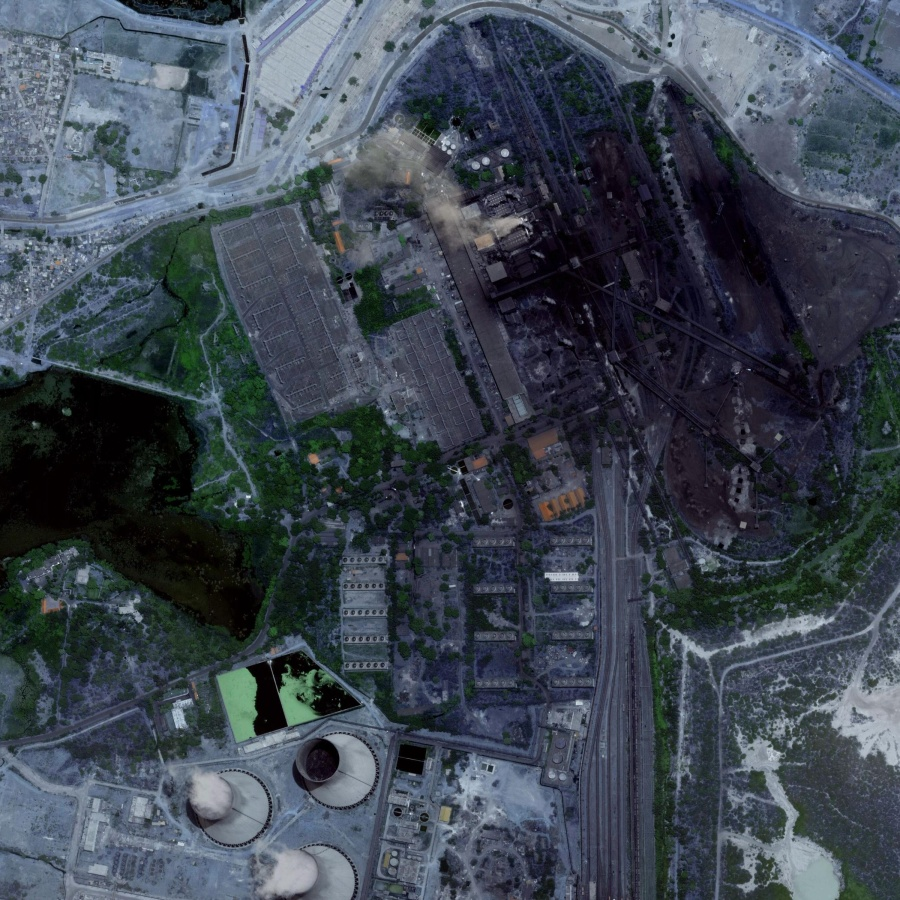PowerPlant: (364, 1, 855, 540)
